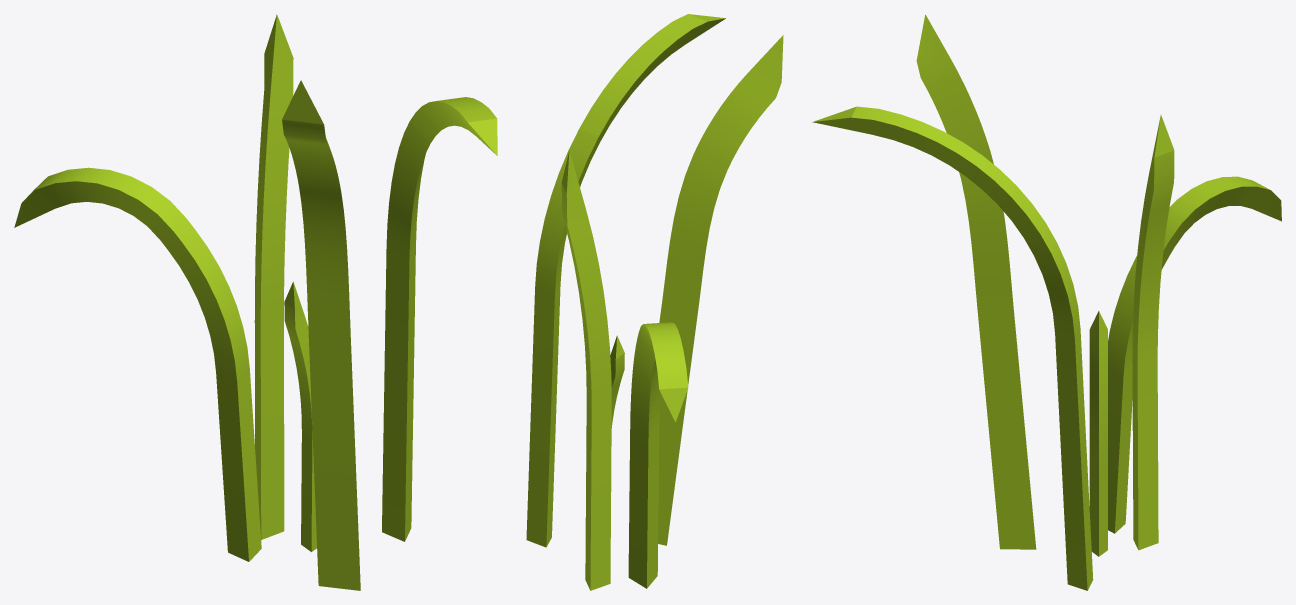
Rendered from grass2.FBX.
3 views of the same model, side by side, from view 1: azimuth 30°, elevation 25°; view 2: azimuth 150°, elevation 25°; view 3: azimuth 270°, elevation 25° (orthographic). The views are drawn at different scales.
Visible parts, largest first — view 1: Bundle 2; view 2: Bundle 2; view 3: Bundle 2.
Boxes of the visible parts, x1,y1,x2,y2 form: Bundle 2: (14,14,497,590); Bundle 2: (526,14,783,590); Bundle 2: (812,14,1281,590).
Size of the model in its own units: 32.16 by 60.42 by 52.33.
